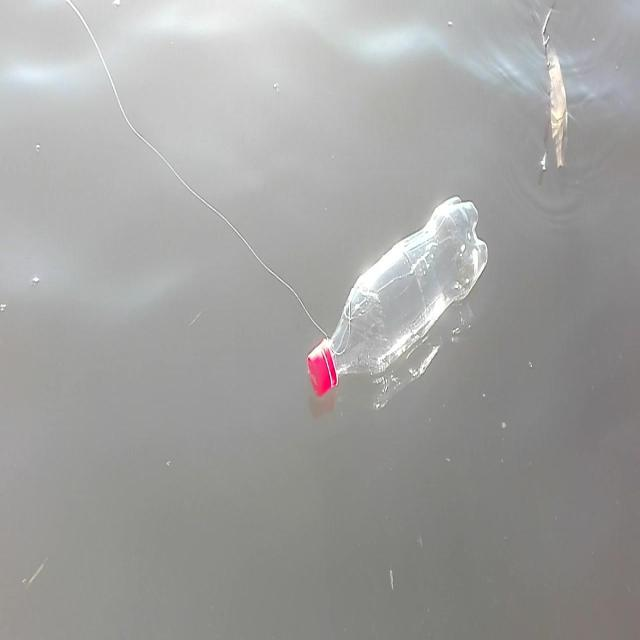litter: (298, 176, 500, 437)
